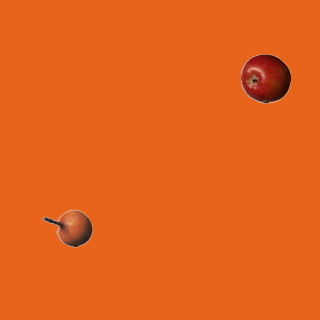Apple Braeburn: (240, 53, 290, 103)
Granadilla: (42, 203, 92, 253)
